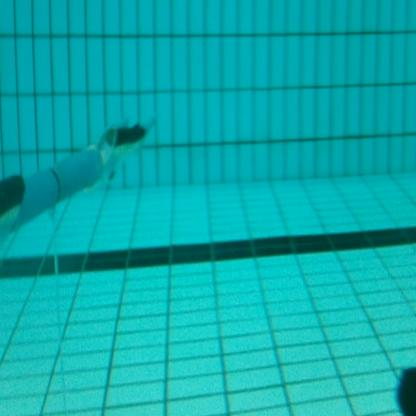tail: (94, 111, 158, 191)
